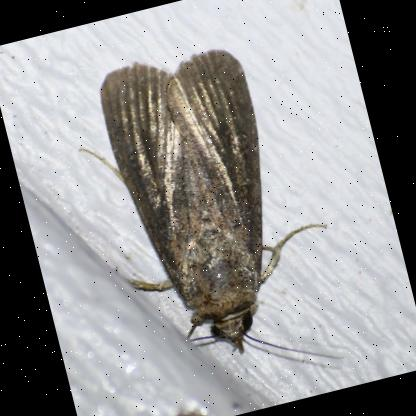Fall Armyworm Moth: (57, 22, 364, 413)
